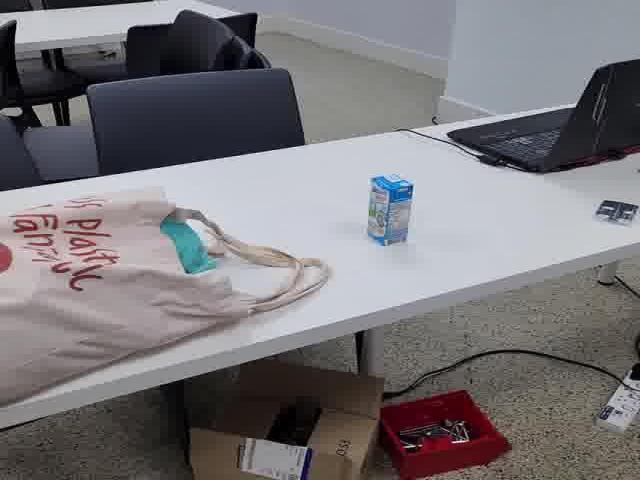drink_box: (356, 165, 420, 255)
